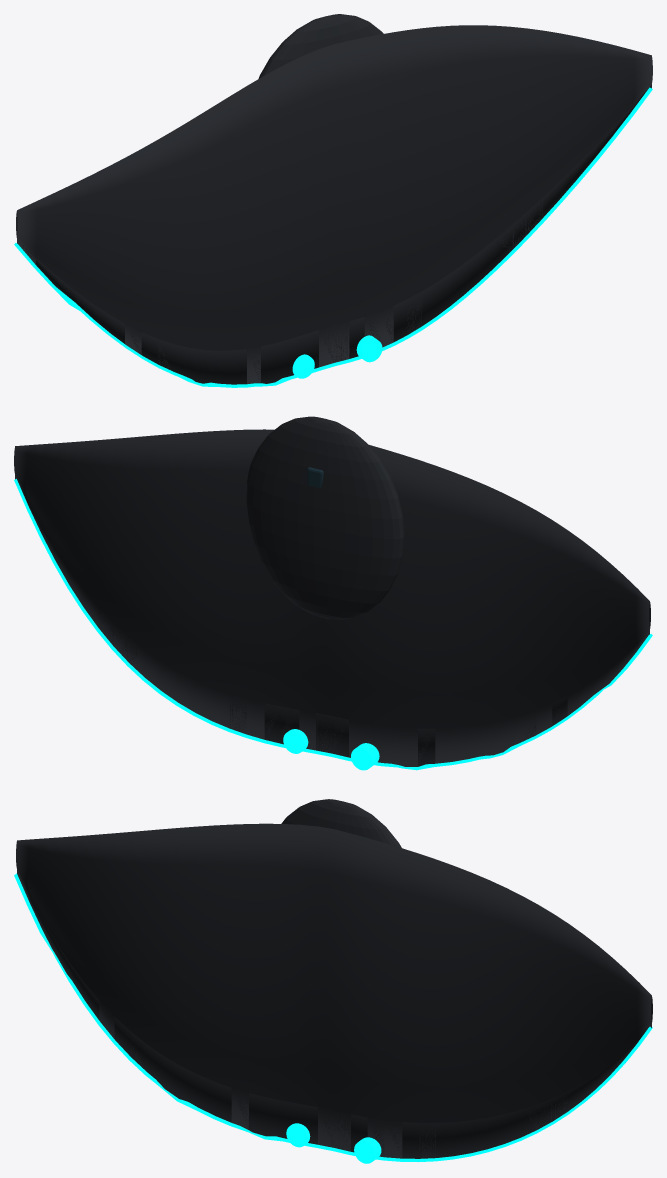
Rendered from manta.glb.
3 renders of one model, top to bottom at view 1: azimuth 30°, elevation 25°; view 2: azimuth 150°, elevation 25°; view 3: azimuth 330°, elevation 25°, orthographic.
Parts seen in each view (by area): view 1: wing, teal_edge, bulge, nozzle; view 2: wing, bulge, teal_edge, nozzle.001; view 3: wing, teal_edge, bulge, nozzle.
Part boxes in pixels (box(x1,y1,x2,y2)): wing: box(16, 25, 652, 384); teal_edge: box(14, 87, 652, 387); bulge: box(258, 14, 383, 78); nozzle: box(356, 335, 382, 362); wing: box(14, 429, 650, 766); bulge: box(246, 416, 404, 619); teal_edge: box(14, 479, 652, 770); nozzle.001: box(351, 743, 379, 770); wing: box(16, 823, 652, 1158); teal_edge: box(14, 873, 652, 1162); bulge: box(281, 799, 401, 847); nozzle: box(354, 1137, 381, 1163).
Size of the model in its own units: 0.015 by 0.0078 by 0.00157.
